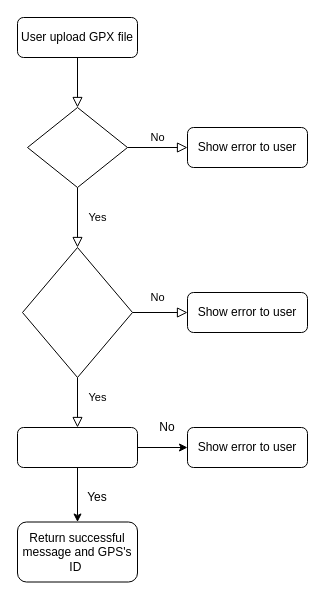
The diagram is 325 pixels wide and 600 high, and some of its shapes have lost their labels. The centre of each missing label's shape, as x and y in pixels:
"Is file valid?" belongs at pixel 77 147.
"Parse GPX file success?" belongs at pixel 77 312.
"Save GPS data to DB success?" belongs at pixel 77 447.
